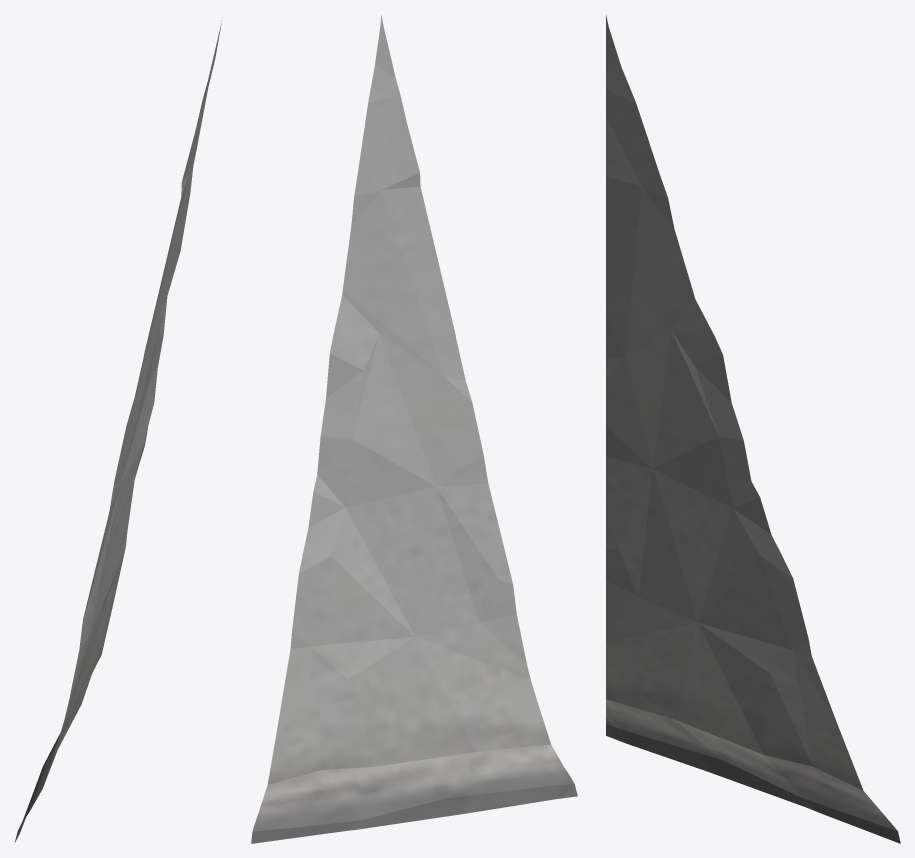
3 renders of one model, left to right at view 1: azimuth 30°, elevation 25°; view 2: azimuth 150°, elevation 25°; view 3: azimuth 270°, elevation 25°, orthographic. The views are drawn at different scales.
Bounding box in the file's own units: 0.1498 × 0.5356 × 0.1725.
Materials: 1 (1 with a texture image).
